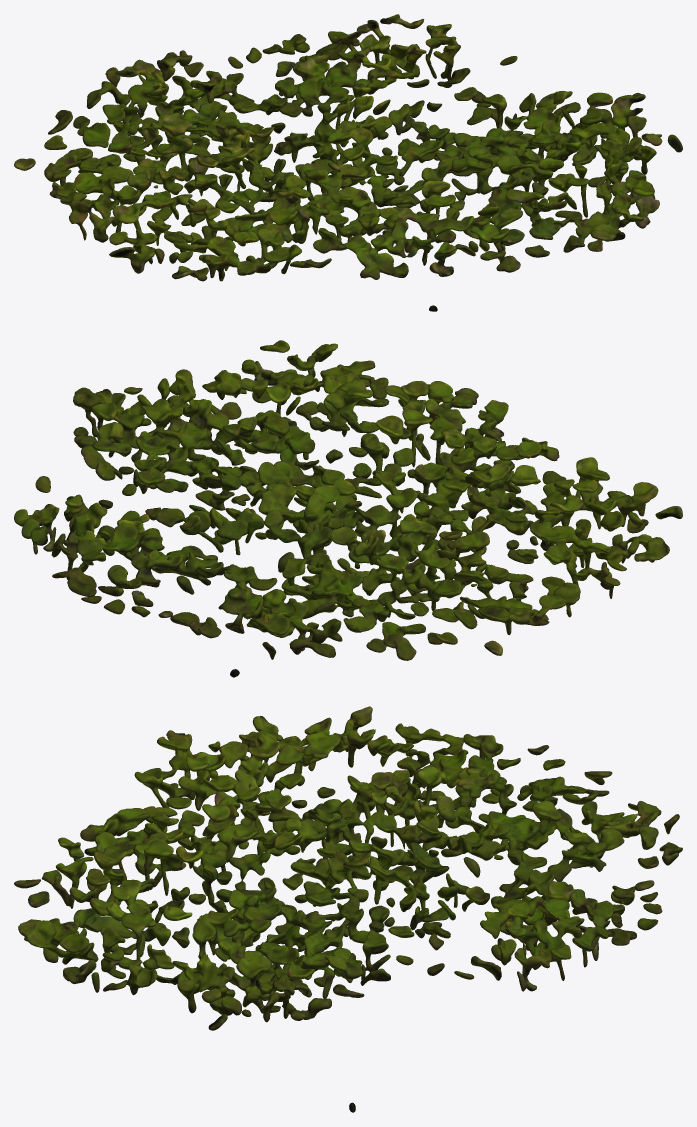
File: Moss__0423203021.fbx
3 renders of one model, top to bottom at view 1: azimuth 30°, elevation 25°; view 2: azimuth 150°, elevation 25°; view 3: azimuth 270°, elevation 25°, orthographic. The views are drawn at different scales.
Parts seen in each view (by area): view 1: Mesh_0; view 2: Mesh_0; view 3: Mesh_0.
Part boxes in pixels (x1=…): Mesh_0: x1=14, y1=14, x2=682, y2=311; Mesh_0: x1=14, y1=340, x2=682, y2=677; Mesh_0: x1=14, y1=706, x2=682, y2=1112.
Size of the model in its own units: 200 by 72.04 by 189.
1 material, 1 textured.
